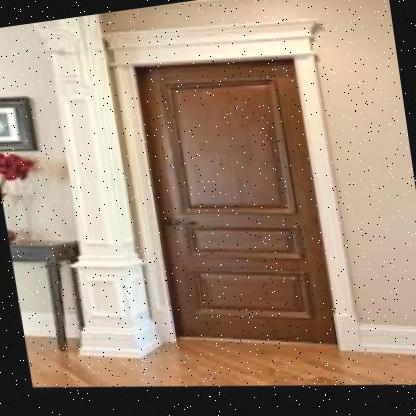door: (132, 45, 339, 354)
